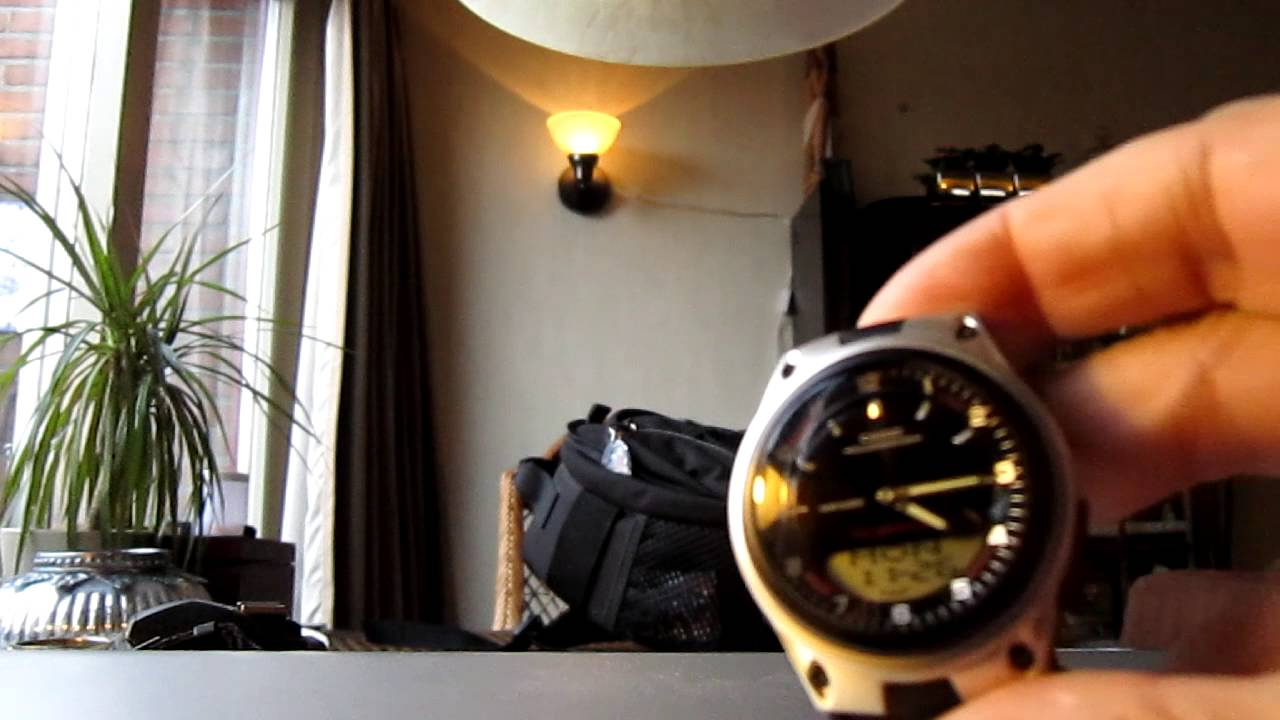clock: (727, 337, 1087, 677)
